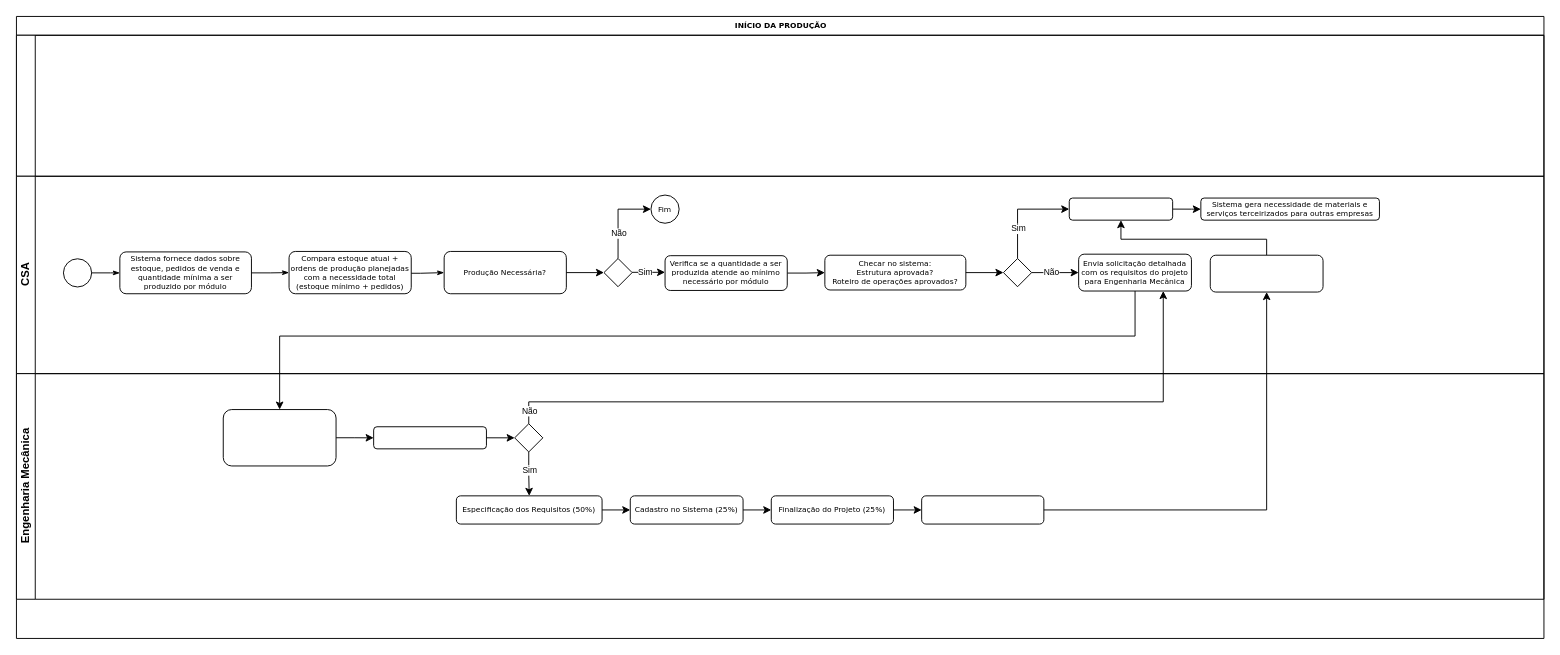
Image size: 1560x655. Some labels were removed from this diagram. The shapes that lost their labels are listed below. From the top down, each one's centre as x and y in pixels, then its label:
point (780, 105): Esquadros
point (1120, 208): Gerar ordens de produção
point (77, 272): Início
point (1266, 273): Recebimento do Projeto da Engenharia Mecânica
point (279, 437): Recebimento da Solicitação : Requisitos do projet o enviados pela CSA
point (429, 437): Solicitação completa?
point (982, 509): Entrega do Projeto
